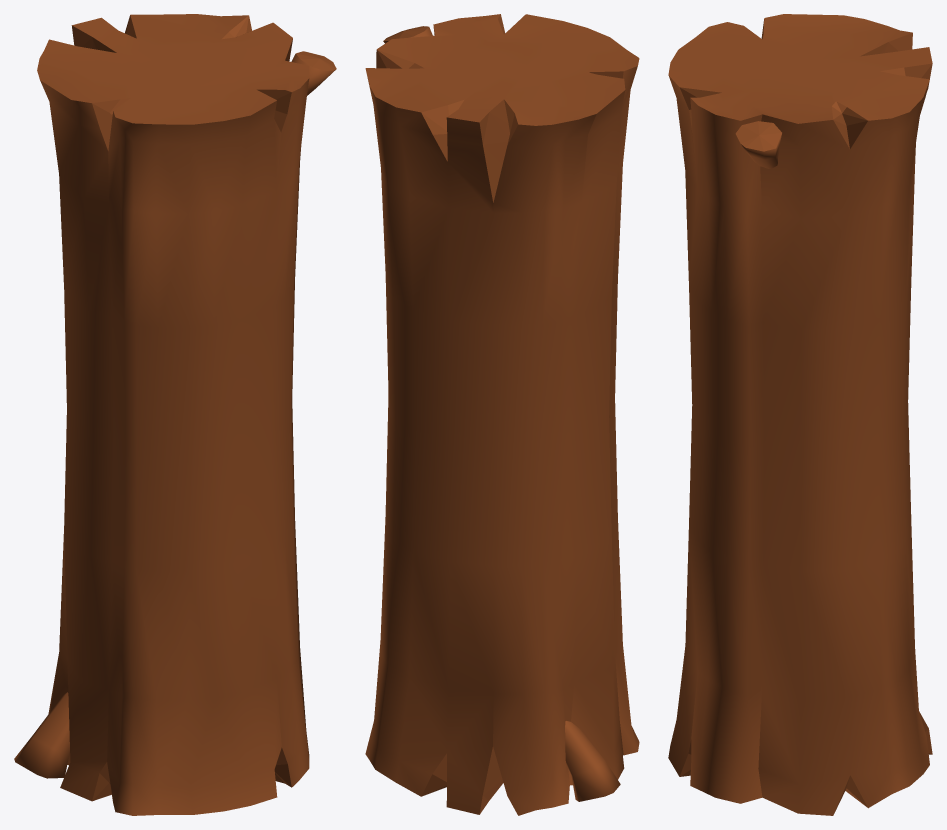
The model's file is LongWoodenBox.fbx.
3 views of the same model, side by side, from view 1: azimuth 30°, elevation 25°; view 2: azimuth 150°, elevation 25°; view 3: azimuth 270°, elevation 25° (orthographic).
Parts seen in each view (by area): view 1: Wood3, Branch_1, Branch_2; view 2: Wood3, Branch_1; view 3: Wood3, Branch_2.
Boxes of the visible parts, box(x1,y1,x2,y2) form: Wood3: box(37, 14, 309, 815); Branch_1: box(14, 692, 69, 778); Branch_2: box(291, 51, 336, 95); Wood3: box(365, 14, 639, 815); Branch_1: box(565, 721, 620, 801); Wood3: box(668, 14, 932, 815); Branch_2: box(735, 121, 781, 168).
Size of the model in its own units: 121 by 298 by 103.
